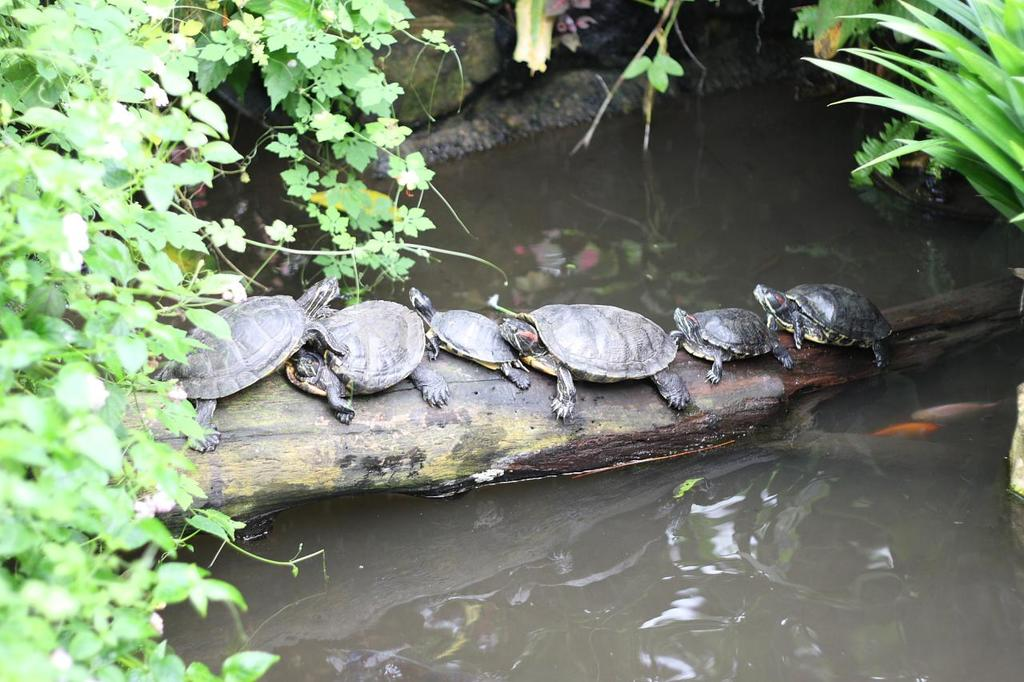Sea turtles: (139, 274, 895, 451)
